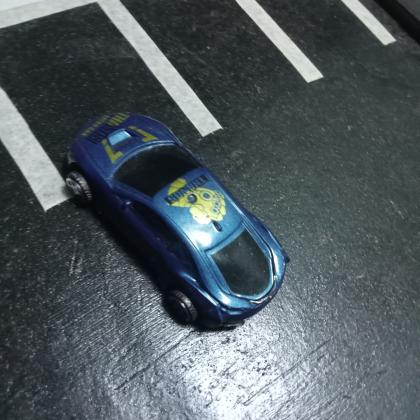Car: (67, 113, 290, 332)
